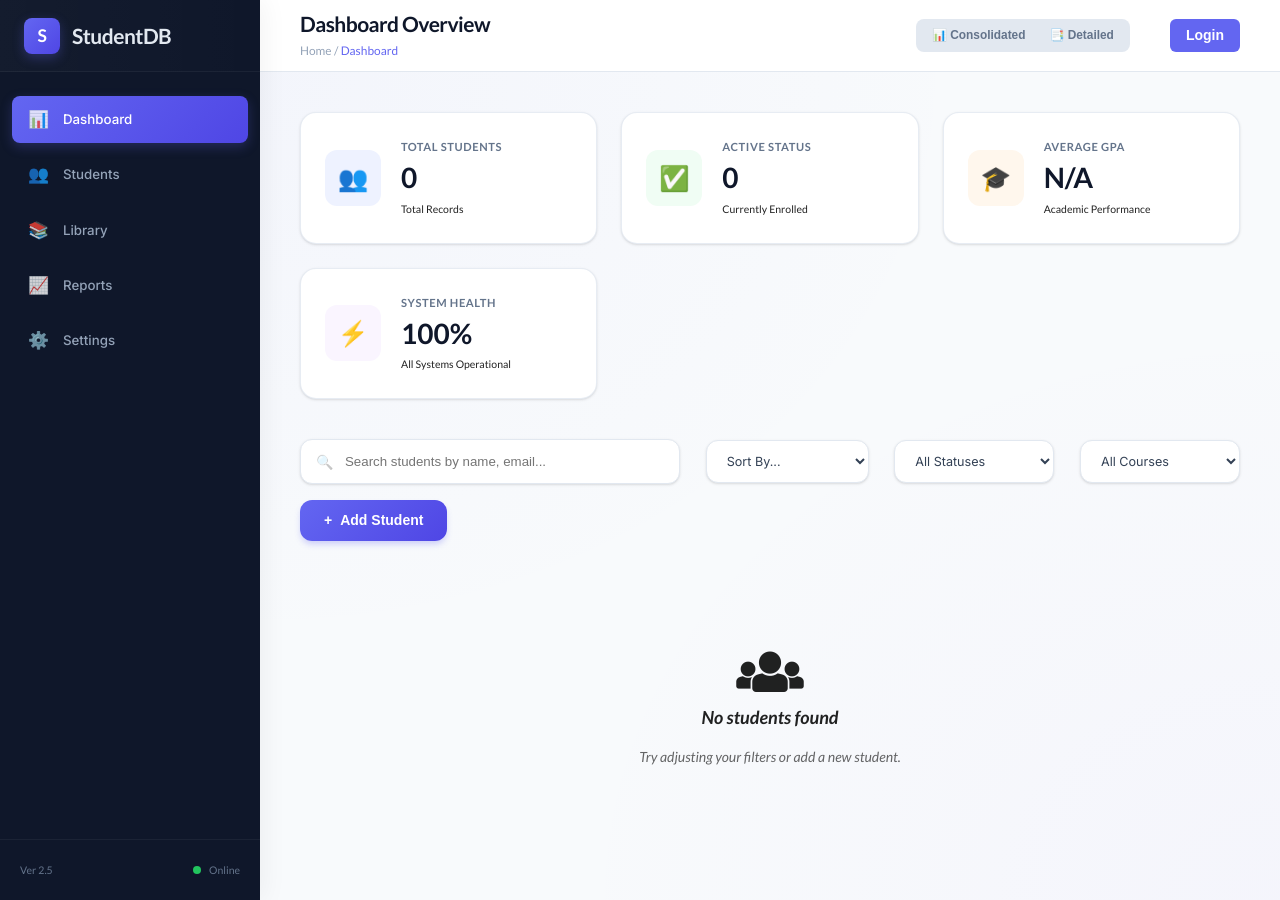
Test: Enterprise App Integration › navigates to Reports module
Expected: the text "Total Students" is shown, [401, 140, 502, 153]
Click the text "Reports".
click(88, 286)  # box [63, 278, 112, 293]
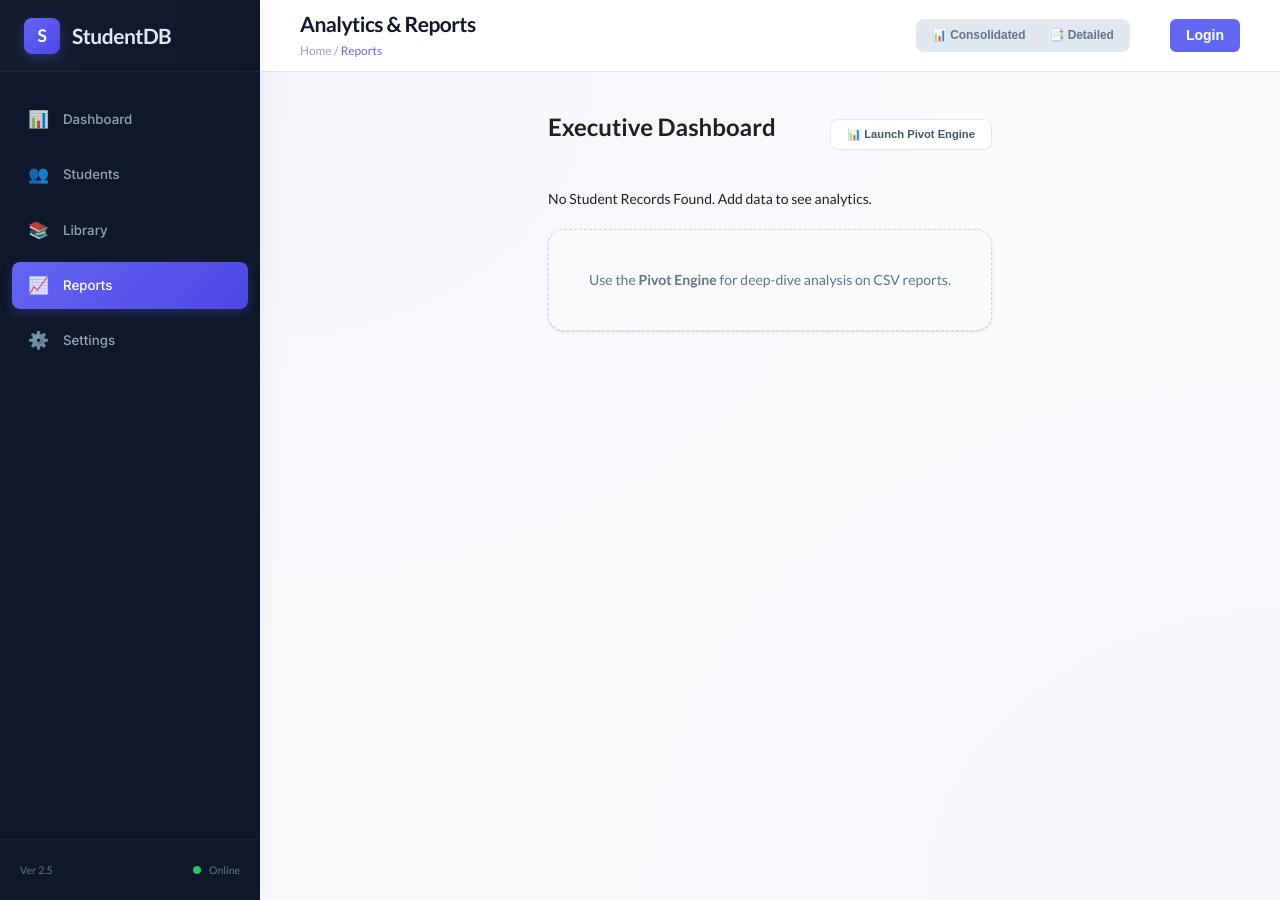
Expected: the heading "Analytics & Reports" is shown, [300, 10, 476, 37]
